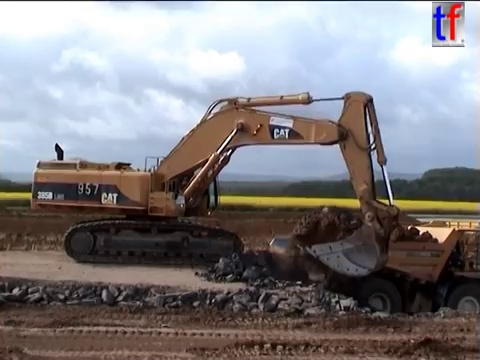excavator: (27, 87, 400, 280)
truck: (264, 215, 480, 334)
